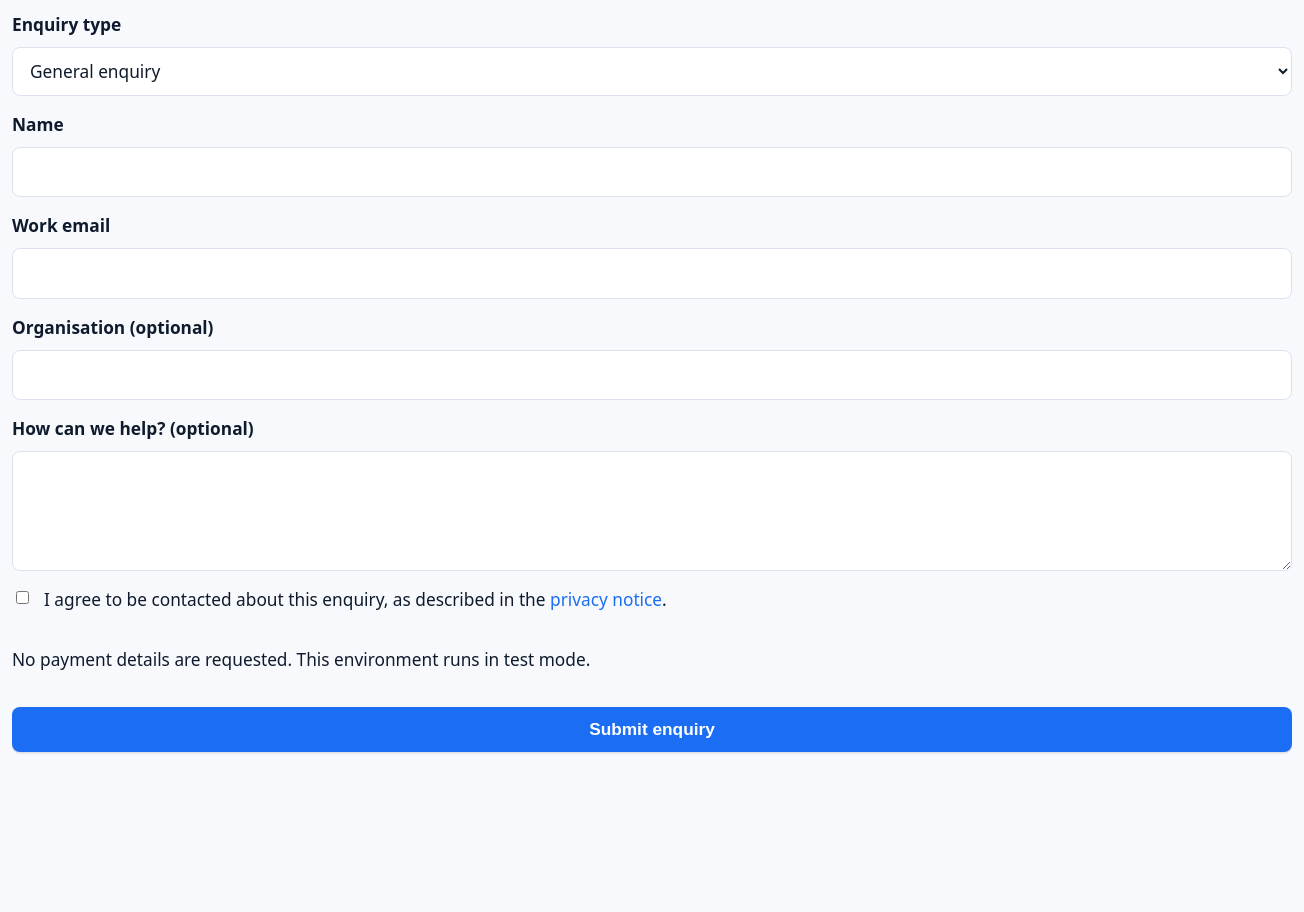
it: LeadForm › shows validation errors when submitted empty
Step 1. Click the button "Submit enquiry" → (652, 730), box [12, 707, 1292, 752]
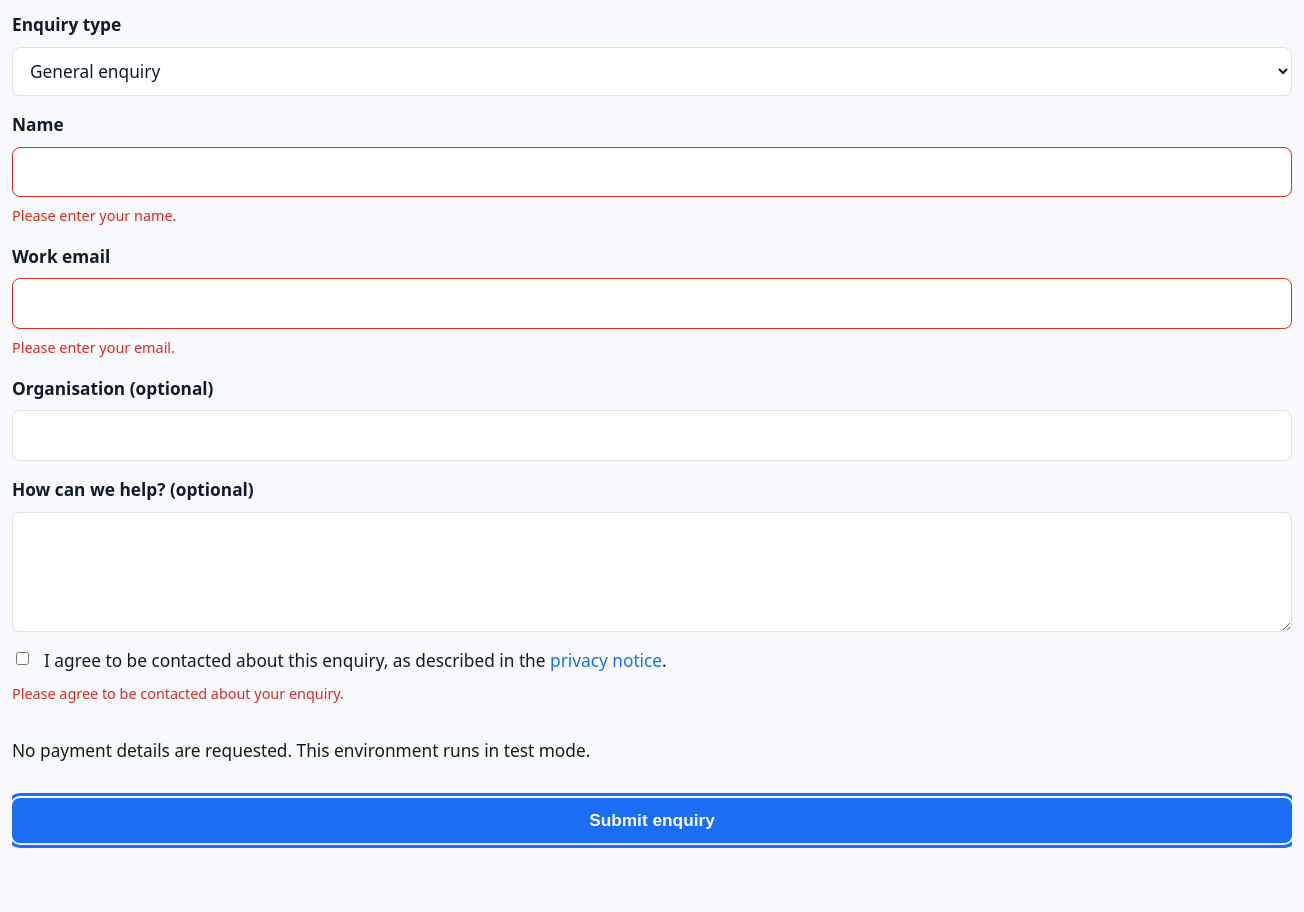
Expected: the text "Please enter your name." is shown, [12, 206, 176, 225]
Expected: the text "Please enter your email." is shown, [12, 338, 175, 357]
Expected: the text "Please agree to be contacted about your enquiry." is shown, [12, 684, 344, 703]
